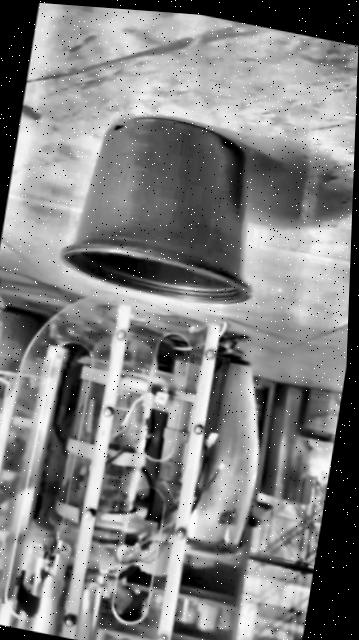pot: (55, 101, 275, 317)
